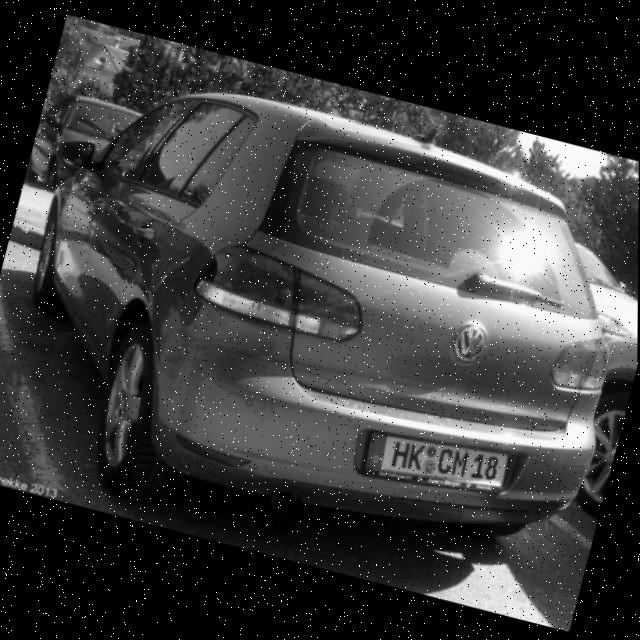license-plates: (366, 433, 508, 492)
